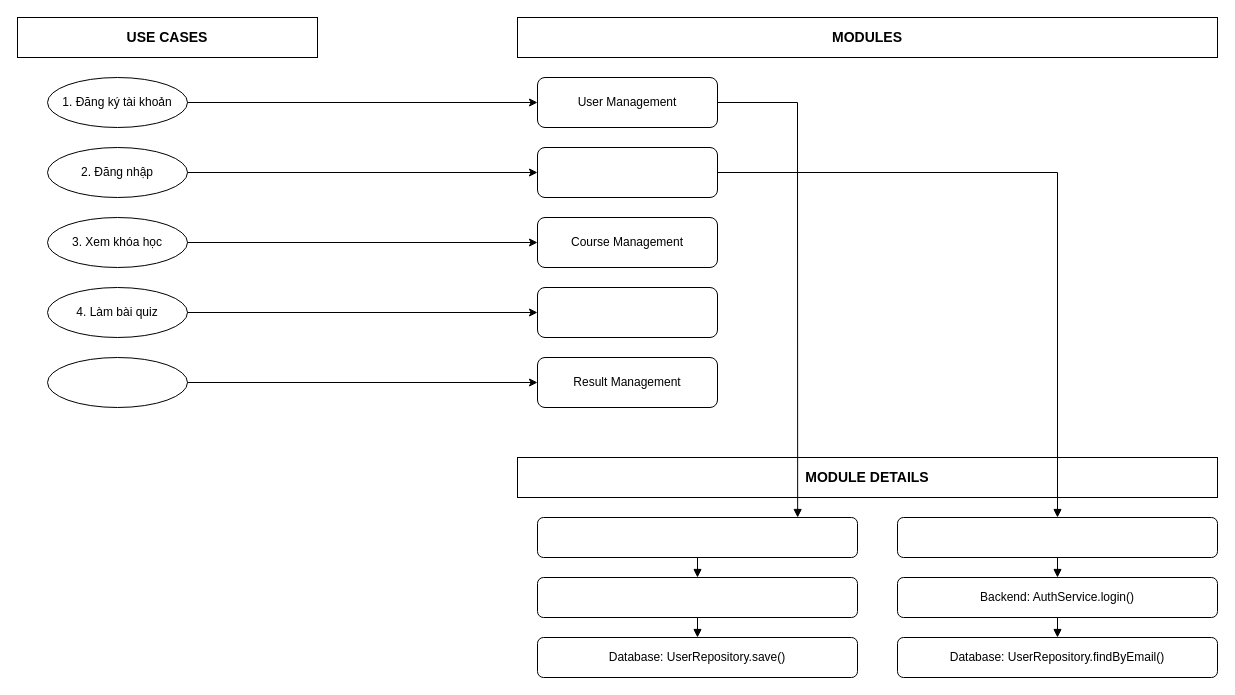
Image size: 1235x695. Some labels were removed from this diagram. The centre of each missing label's shape, as x and y in pixels:
5. Xem kết quả: point (117, 382)
Authentication: point (627, 172)
Backend: UserService.register(): point (697, 597)
Frontend: Login Form: point (1057, 537)
Frontend: Registration Form: point (697, 537)
Quiz Management: point (627, 312)
